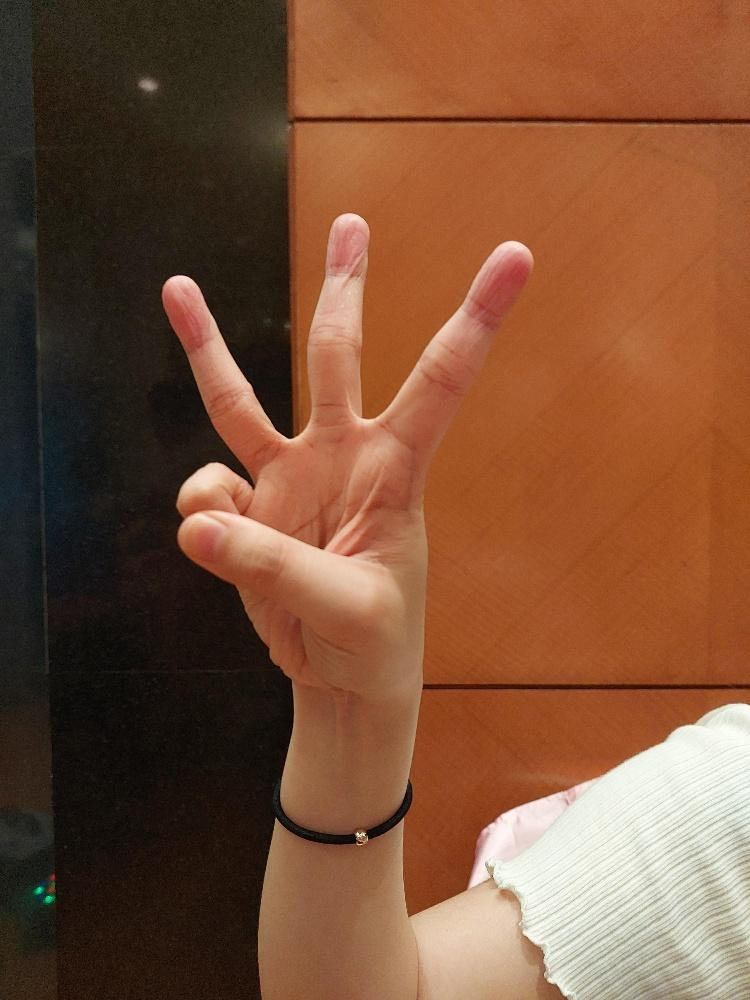w: (154, 209, 538, 698)
